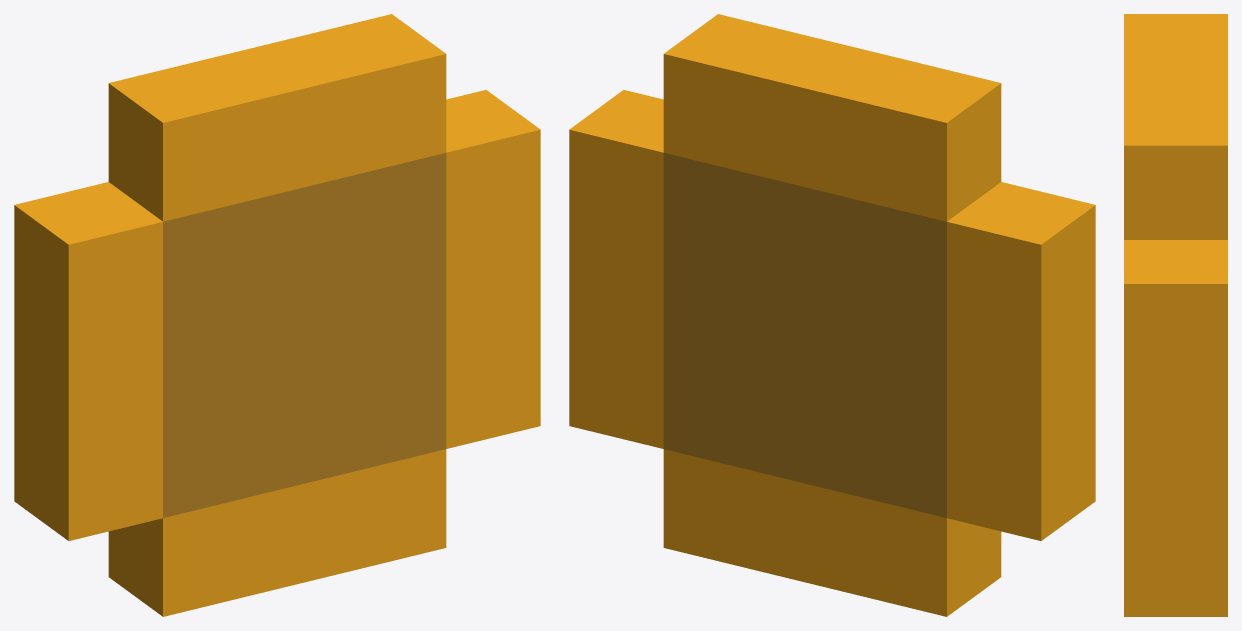
File: connect-yellow.glb
3 views of the same model, side by side, from view 1: azimuth 30°, elevation 25°; view 2: azimuth 150°, elevation 25°; view 3: azimuth 270°, elevation 25° (orthographic). The views are drawn at different scales.
Parts seen in each view (by area): view 1: Node; view 2: Node; view 3: Node.
Part boxes in pixels (x1,y1,x2,y2): Node: (14, 14, 540, 616); Node: (569, 14, 1095, 616); Node: (1124, 14, 1227, 616).
Bounding box in the file's own units: 0.5 × 0.5 × 0.1.
1 material, 1 textured.
